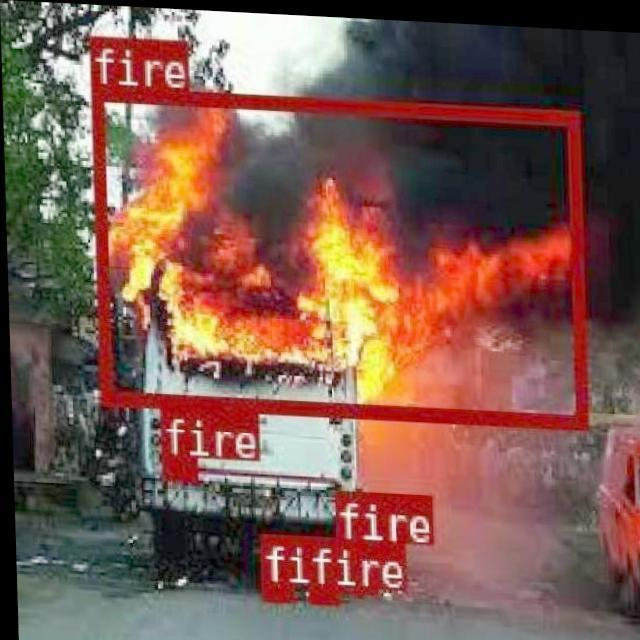Fire: (106, 105, 559, 418)
Smoke: (158, 6, 640, 342)
